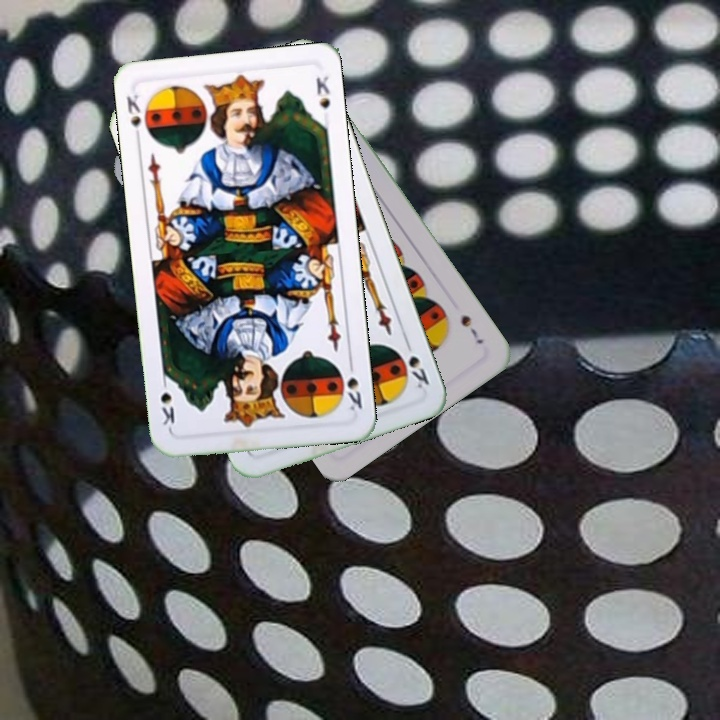S7: (456, 310, 487, 347)
SK: (401, 335, 432, 392), (343, 356, 365, 415), (122, 89, 143, 145)
